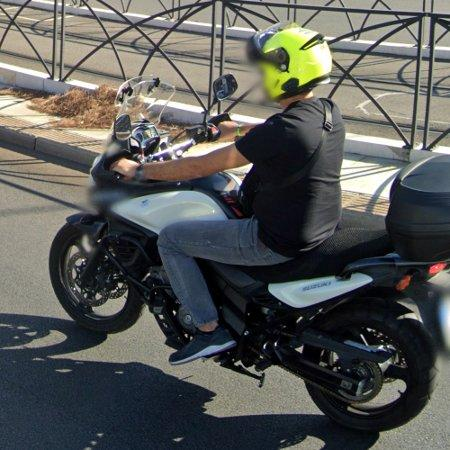motorcycles: (47, 74, 450, 434)
